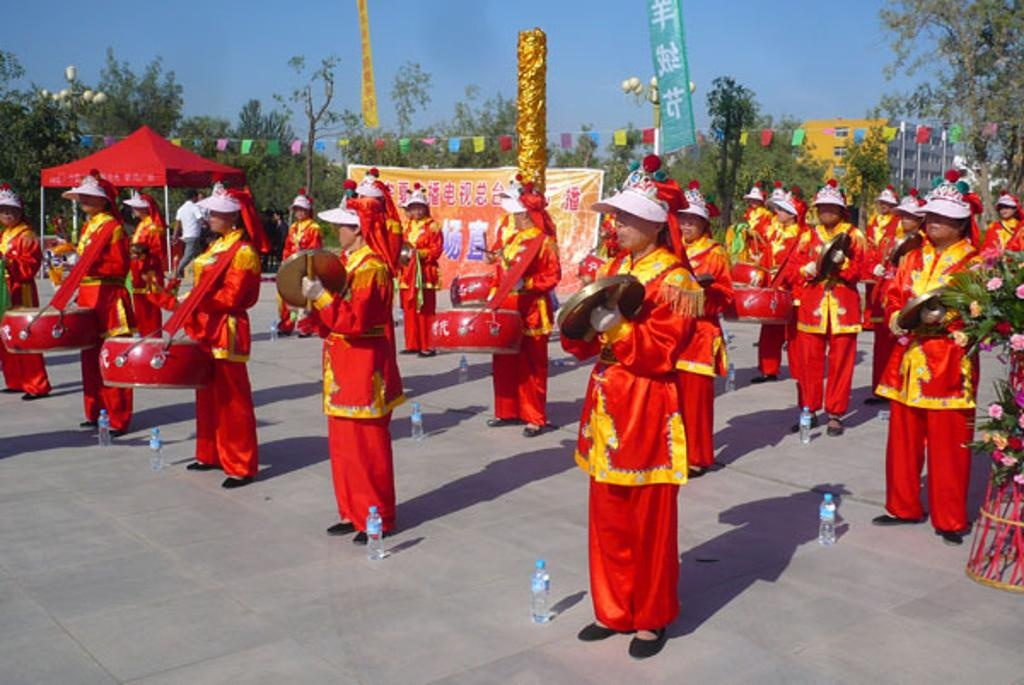human_face: (615, 207, 653, 248), (926, 206, 958, 236), (678, 211, 702, 238), (209, 205, 231, 231), (338, 220, 360, 245), (78, 191, 98, 211), (819, 202, 839, 222), (0, 205, 19, 225), (902, 210, 918, 230), (514, 205, 530, 223), (774, 203, 790, 221), (998, 203, 1014, 217), (294, 204, 308, 218), (411, 202, 425, 216), (880, 200, 890, 212)
